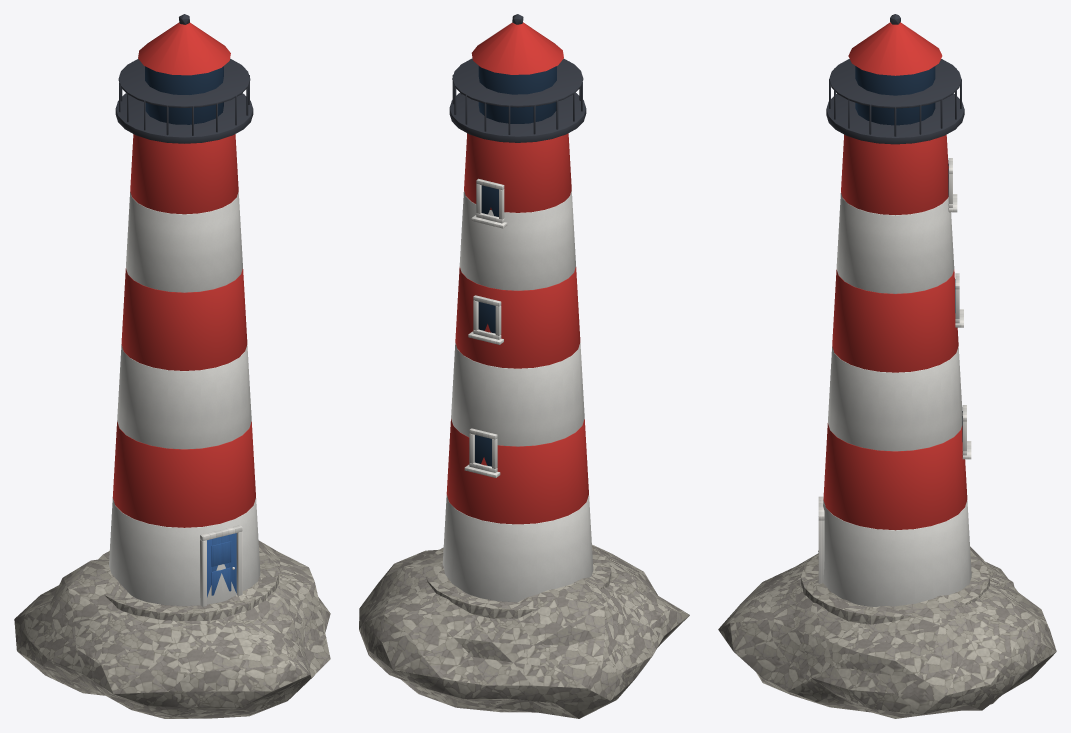
Rendered from lighthouse.glb.
3 renders of one model, left to right at view 1: azimuth 30°, elevation 25°; view 2: azimuth 150°, elevation 25°; view 3: azimuth 270°, elevation 25°, orthographic.
Visible parts, largest first — view 1: lighthouse; view 2: lighthouse; view 3: lighthouse.
Boxes of the visible parts, bbox=[...] form: lighthouse: bbox=[14, 14, 330, 718]; lighthouse: bbox=[359, 14, 689, 718]; lighthouse: bbox=[718, 14, 1056, 718].
Size of the model in its own units: 8.65 by 20.5 by 9.31.
Materials: 9 (9 with a texture image).
